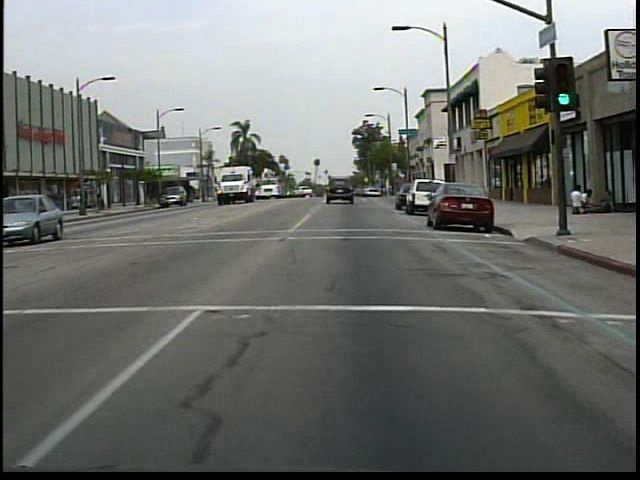person: (565, 183, 584, 216), (96, 190, 107, 212)
